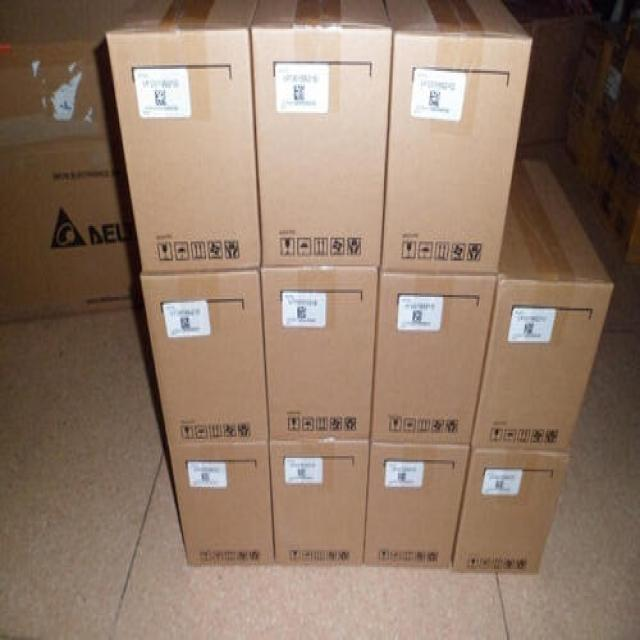box: (470, 159, 614, 452), (106, 0, 261, 272), (381, 0, 532, 274), (0, 40, 145, 322), (250, 0, 393, 266), (367, 268, 498, 445), (141, 266, 270, 445), (261, 266, 378, 441), (449, 450, 570, 575), (503, 0, 600, 149), (362, 441, 470, 567), (168, 441, 275, 567), (270, 439, 370, 565), (564, 65, 620, 188), (593, 149, 640, 264), (607, 92, 640, 194), (573, 27, 614, 107), (618, 13, 640, 115)
